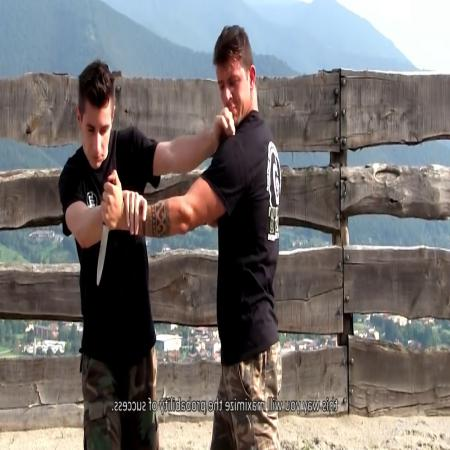long weapon: (94, 168, 120, 290)
